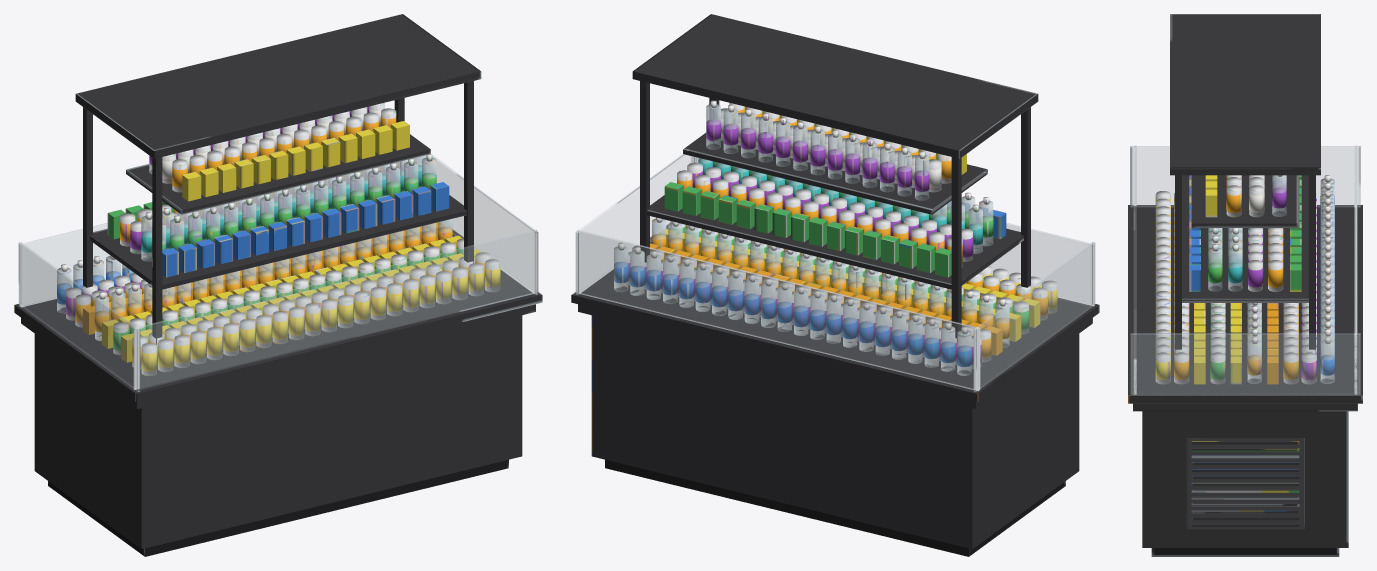
Rendered from islandCooler.glb.
3 views of the same model, side by side, from view 1: azimuth 30°, elevation 25°; view 2: azimuth 150°, elevation 25°; view 3: azimuth 270°, elevation 25° (orthographic). The views are drawn at different scales.
Visible parts, largest first — view 1: Island_Cooler_L72in; view 2: Island_Cooler_L72in; view 3: Island_Cooler_L72in.
Part boxes in pixels (bbox=[...]): Island_Cooler_L72in: bbox=[14, 14, 542, 556]; Island_Cooler_L72in: bbox=[571, 14, 1099, 556]; Island_Cooler_L72in: bbox=[1128, 14, 1362, 556].
Size of the model in its own units: 1.91 by 1.77 by 0.99.
1 material, 1 textured.
